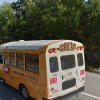Bus: (3, 34, 87, 100)
